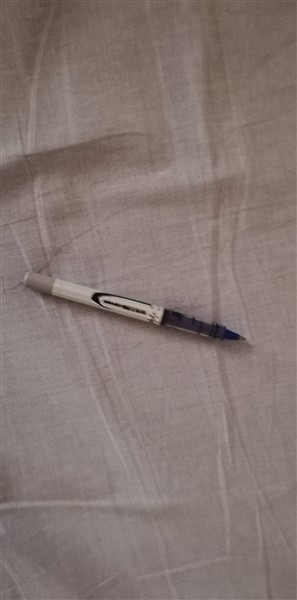pilot kalem: (20, 268, 252, 349)
